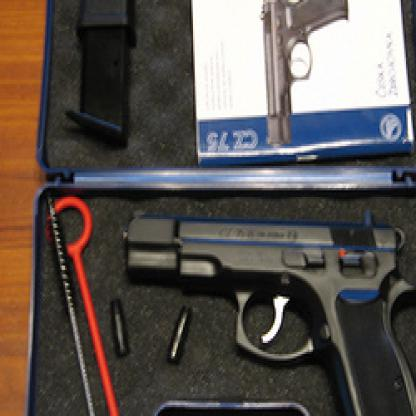gun: (120, 195, 414, 414), (258, 0, 358, 153)
